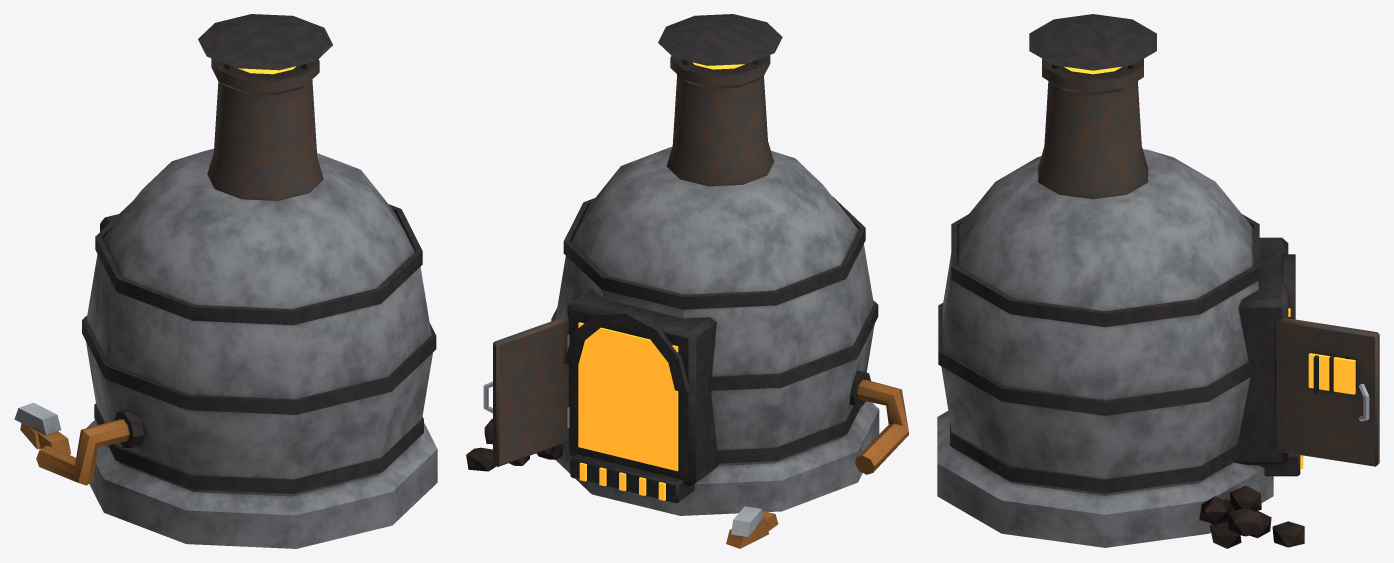
Rendered from horno_forja.fbx.
3 renders of one model, left to right at view 1: azimuth 30°, elevation 25°; view 2: azimuth 150°, elevation 25°; view 3: azimuth 270°, elevation 25°, orthographic. The views are drawn at different scales.
Visible parts, largest first — view 1: horno_forja; view 2: horno_forja, horno_forja_naranja_neon, horno_forja_puerta; view 3: horno_forja, horno_forja_puerta, horno_forja_naranja_neon.
Boxes of the visible parts, <box> form: horno_forja: <box>14,14,437,548</box>; horno_forja: <box>466,14,908,548</box>; horno_forja_naranja_neon: <box>578,62,744,500</box>; horno_forja_puerta: <box>483,315,568,466</box>; horno_forja: <box>937,14,1304,548</box>; horno_forja_puerta: <box>1275,318,1379,466</box>; horno_forja_naranja_neon: <box>1064,66,1355,468</box>.
Size of the model in its own units: 3.51 by 4.04 by 3.63.
Materials: 2 (2 with a texture image).
